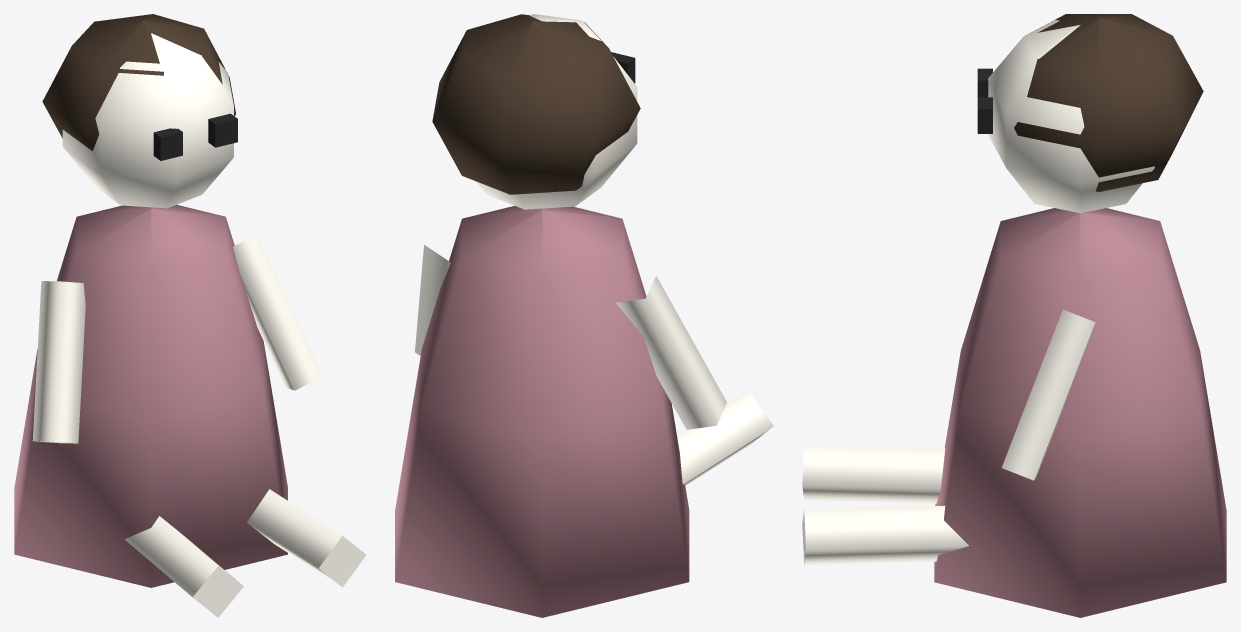
Rendered from doll_big.glb.
3 renders of one model, left to right at view 1: azimuth 30°, elevation 25°; view 2: azimuth 150°, elevation 25°; view 3: azimuth 270°, elevation 25°, orthographic. The views are drawn at different scales.
Visible parts, largest first — view 1: doll_big; view 2: doll_big; view 3: doll_big.
Boxes of the visible parts, x1,y1,x2,y2 form: doll_big: [14, 14, 365, 617]; doll_big: [395, 14, 773, 617]; doll_big: [802, 14, 1226, 617].
Size of the model in its own units: 0.5414 by 0.9108 by 0.6636.
